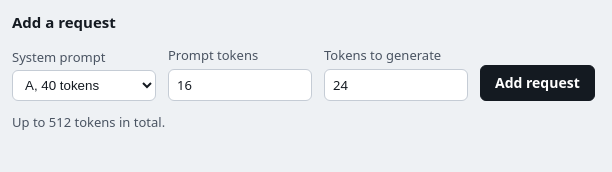
AddRequestForm › shows the server’s reason when a request is rejected
Click the button "Add request" at (537, 83), box [480, 65, 595, 101]
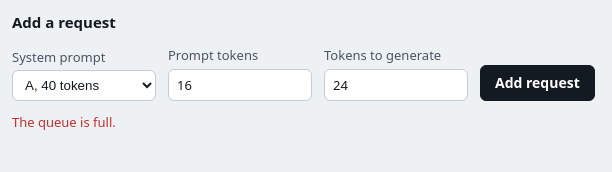
Now the text "The queue is full." is shown, box [12, 113, 116, 131]
